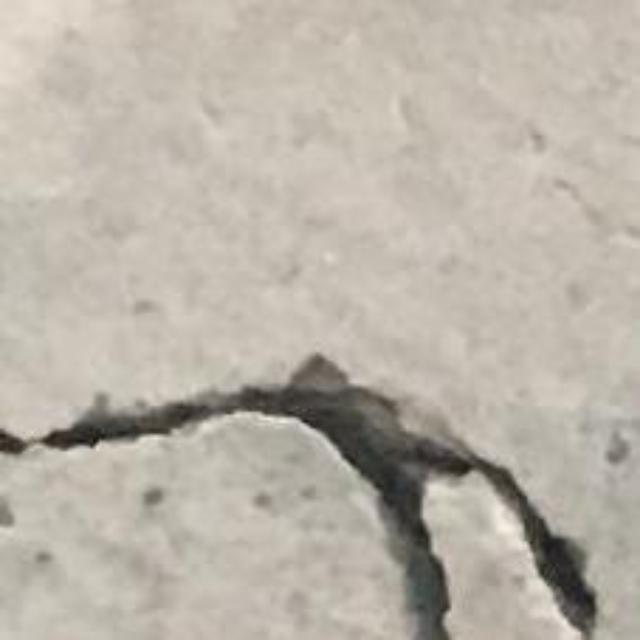crack: (0, 356, 597, 639)
